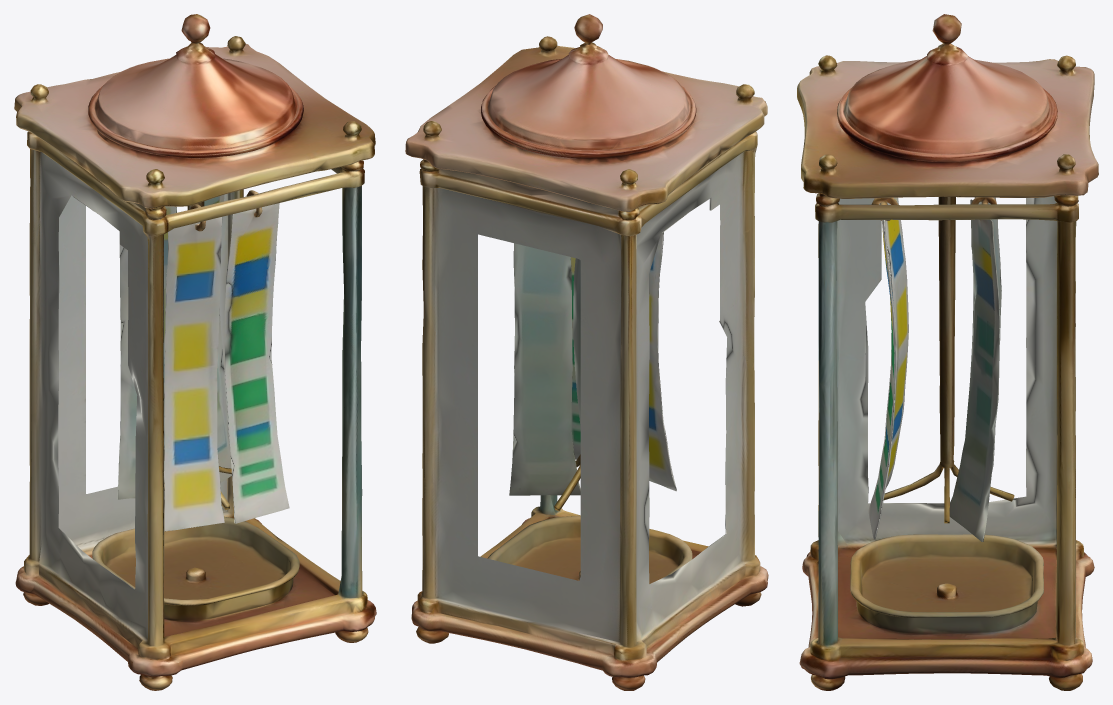
Rendered from chroma-tower.glb.
3 views of the same model, side by side, from view 1: azimuth 30°, elevation 25°; view 2: azimuth 150°, elevation 25°; view 3: azimuth 270°, elevation 25° (orthographic). The views are drawn at different scales.
Visible parts, largest first — view 1: tripo_node_ed3e386c-83e6-4073-b030-269d50acfd96; view 2: tripo_node_ed3e386c-83e6-4073-b030-269d50acfd96; view 3: tripo_node_ed3e386c-83e6-4073-b030-269d50acfd96.
Boxes of the visible parts, box(x1,y1,x2,y2) form: tripo_node_ed3e386c-83e6-4073-b030-269d50acfd96: box(14, 14, 376, 690); tripo_node_ed3e386c-83e6-4073-b030-269d50acfd96: box(405, 14, 768, 690); tripo_node_ed3e386c-83e6-4073-b030-269d50acfd96: box(797, 14, 1098, 690).
Size of the model in its own units: 0.4373 by 1 by 0.4397.
1 material, 1 textured.
